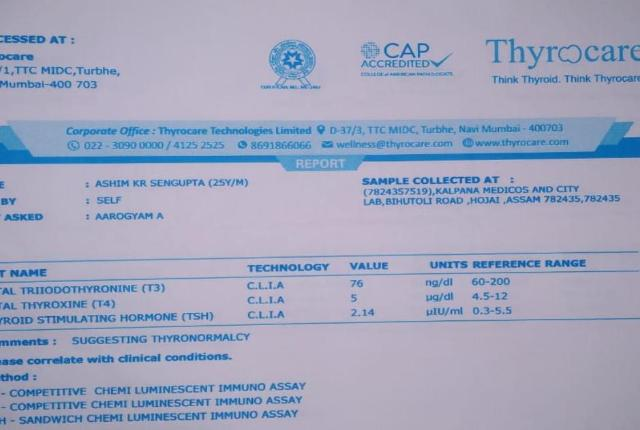Clinical_Conditions: (1, 384, 313, 428)
Name: (93, 178, 251, 190)
Ref_By: (93, 197, 129, 206)
Reference_Range: (469, 274, 518, 320)
Technology: (244, 277, 296, 325)
Test_Asked: (92, 209, 171, 225)
Test_Name: (1, 282, 219, 328)
Unit: (419, 274, 466, 321)
Value: (345, 275, 388, 321)
